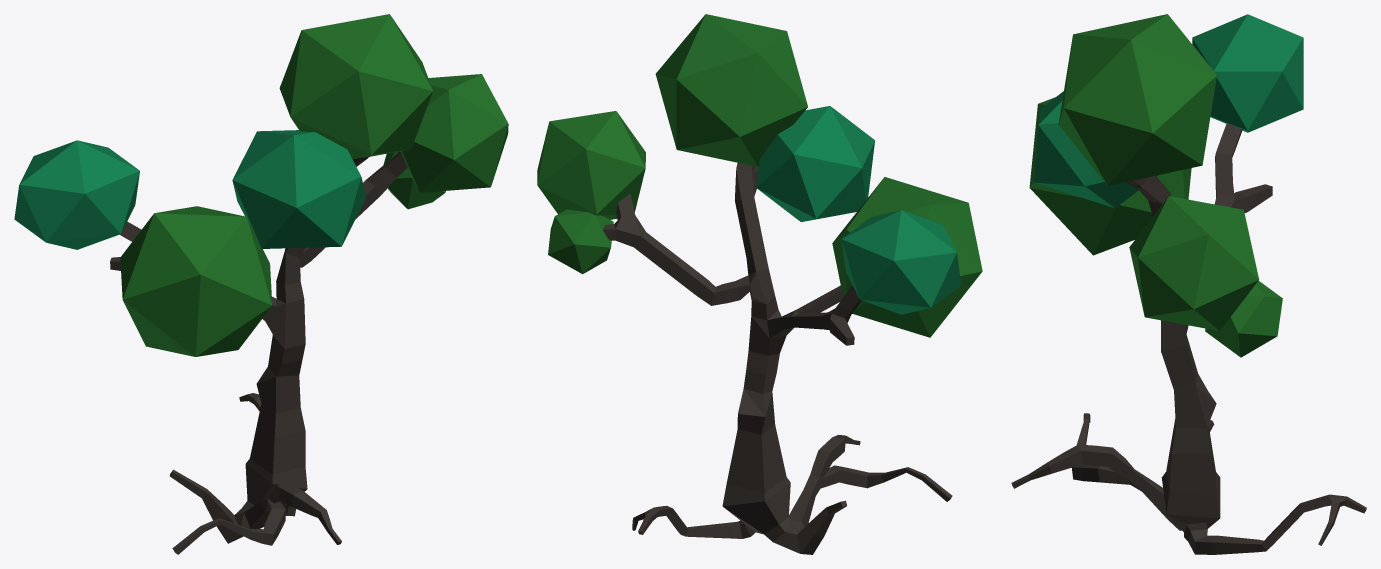
File: willow_tree.fbx
3 renders of one model, left to right at view 1: azimuth 30°, elevation 25°; view 2: azimuth 150°, elevation 25°; view 3: azimuth 270°, elevation 25°, orthographic. The views are drawn at different scales.
Parts seen in each view (by area): view 1: Icosphere.005, Cube, Icosphere.003, Icosphere.004, Icosphere, Icosphere.002, Icosphere.001; view 2: Cube, Icosphere.003, Icosphere.004, Icosphere, Icosphere.002, Icosphere.005, Icosphere.001; view 3: Icosphere.003, Cube, Icosphere.002, Icosphere, Icosphere.005, Icosphere.004, Icosphere.001.
Part boxes in pixels (x1,y1,x2,y2): Icosphere.005: (120, 206, 272, 356); Cube: (110, 151, 407, 554); Icosphere.003: (279, 14, 432, 159); Icosphere.004: (232, 130, 366, 248); Icosphere: (14, 140, 139, 249); Icosphere.002: (400, 74, 508, 192); Icosphere.001: (383, 151, 445, 209); Cube: (603, 163, 952, 554); Icosphere.003: (655, 14, 807, 166); Icosphere.004: (756, 106, 874, 221); Icosphere: (841, 210, 961, 314); Icosphere.002: (537, 111, 645, 219); Icosphere.005: (832, 177, 982, 337); Icosphere.001: (548, 209, 613, 274); Icosphere.003: (1058, 14, 1216, 185); Cube: (1011, 123, 1366, 554); Icosphere.002: (1129, 196, 1259, 330); Icosphere: (1192, 14, 1303, 132); Icosphere.005: (1029, 97, 1191, 255); Icosphere.004: (1034, 91, 1158, 208); Icosphere.001: (1205, 280, 1282, 357).
Bounding box in the file's own units: 352 × 216 × 373.
